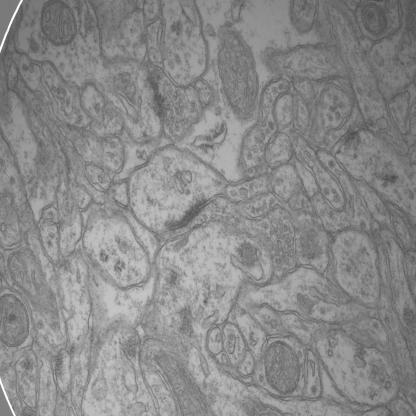mitochondria: (218, 21, 262, 118), (263, 337, 302, 396), (0, 290, 32, 350), (39, 0, 76, 49)
